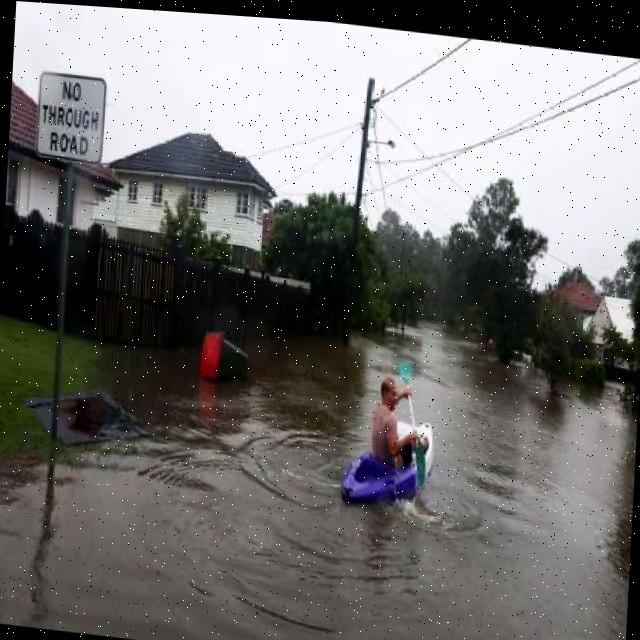civilian: (366, 369, 416, 477)
